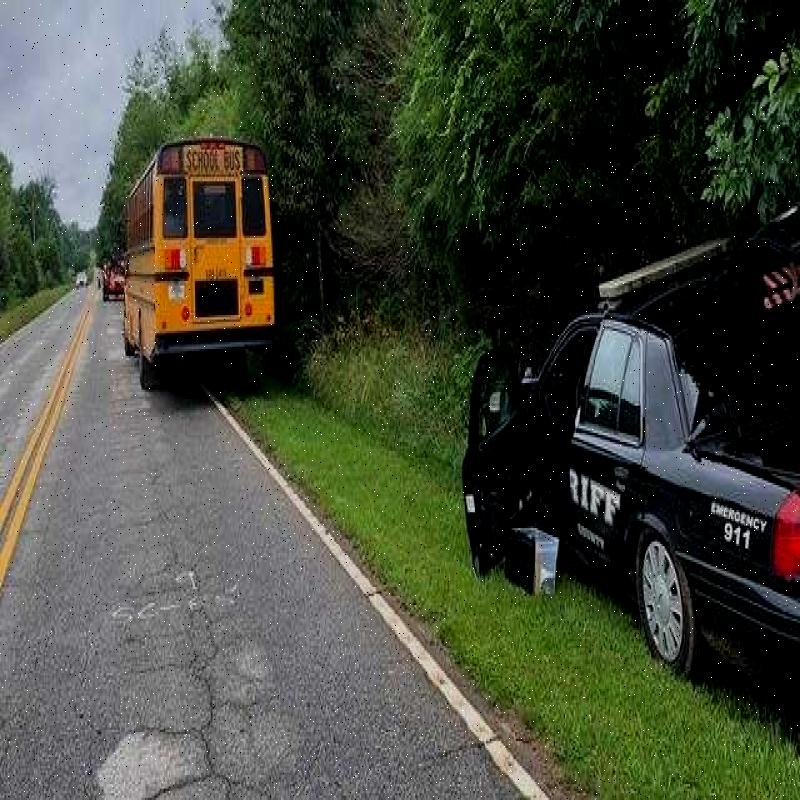bus: (109, 98, 293, 391)
